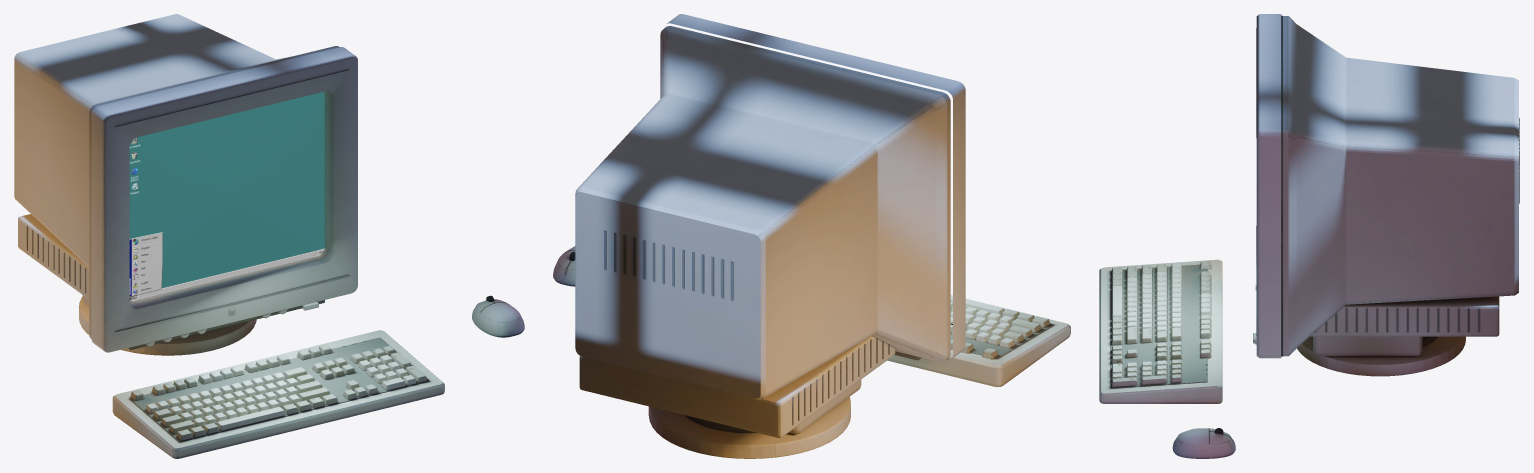
3 views of the same model, side by side, from view 1: azimuth 30°, elevation 25°; view 2: azimuth 150°, elevation 25°; view 3: azimuth 270°, elevation 25° (orthographic). The views are drawn at different scales.
Visible parts, largest first — view 1: PC_Imported_CRT_base, PC_Interactive_Screen_base, PC_Imported_Keyboard_base, PC_Imported_Mouse_base; view 2: PC_Imported_CRT_base, PC_Imported_Keyboard_base, PC_Imported_Mouse_base; view 3: PC_Imported_CRT_base, PC_Imported_Keyboard_base, PC_Imported_Mouse_base.
Part boxes in pixels (left/top/right/bottom): PC_Imported_CRT_base: left=14, top=14, right=357, bottom=355; PC_Interactive_Screen_base: left=129, top=92, right=324, bottom=300; PC_Imported_Keyboard_base: left=112, top=330, right=444, bottom=458; PC_Imported_Mouse_base: left=472, top=295, right=524, bottom=337; PC_Imported_CRT_base: left=575, top=14, right=965, bottom=458; PC_Imported_Keyboard_base: left=887, top=295, right=1070, bottom=387; PC_Imported_Mouse_base: left=553, top=246, right=575, bottom=286; PC_Imported_CRT_base: left=1253, top=14, right=1519, bottom=376; PC_Imported_Keyboard_base: left=1099, top=259, right=1222, bottom=403; PC_Imported_Mouse_base: left=1172, top=428, right=1235, bottom=458.
Size of the model in its own units: 0.714 by 0.4828 by 0.6809.
Materials: 2 (2 with a texture image).
